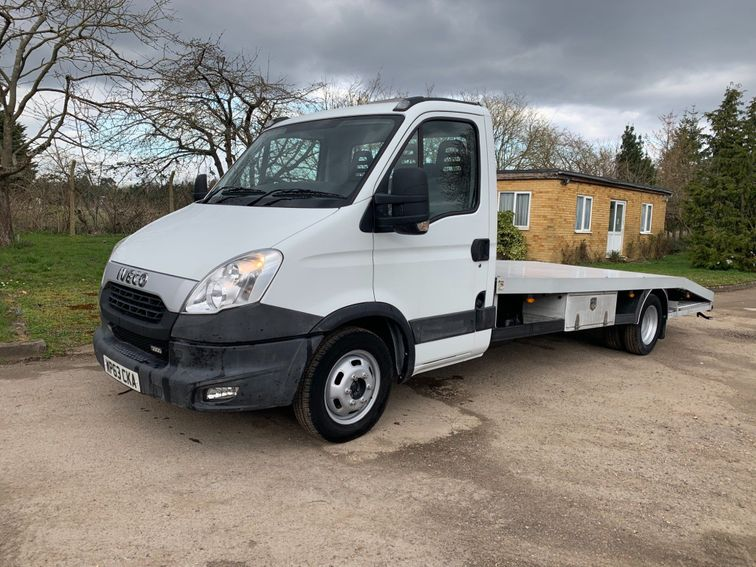Semi: (93, 96, 713, 444)
